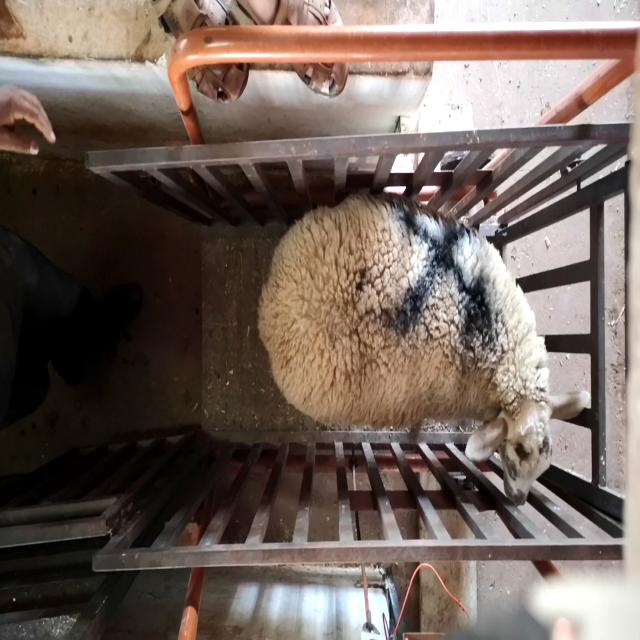sheep: (257, 191, 590, 505)
